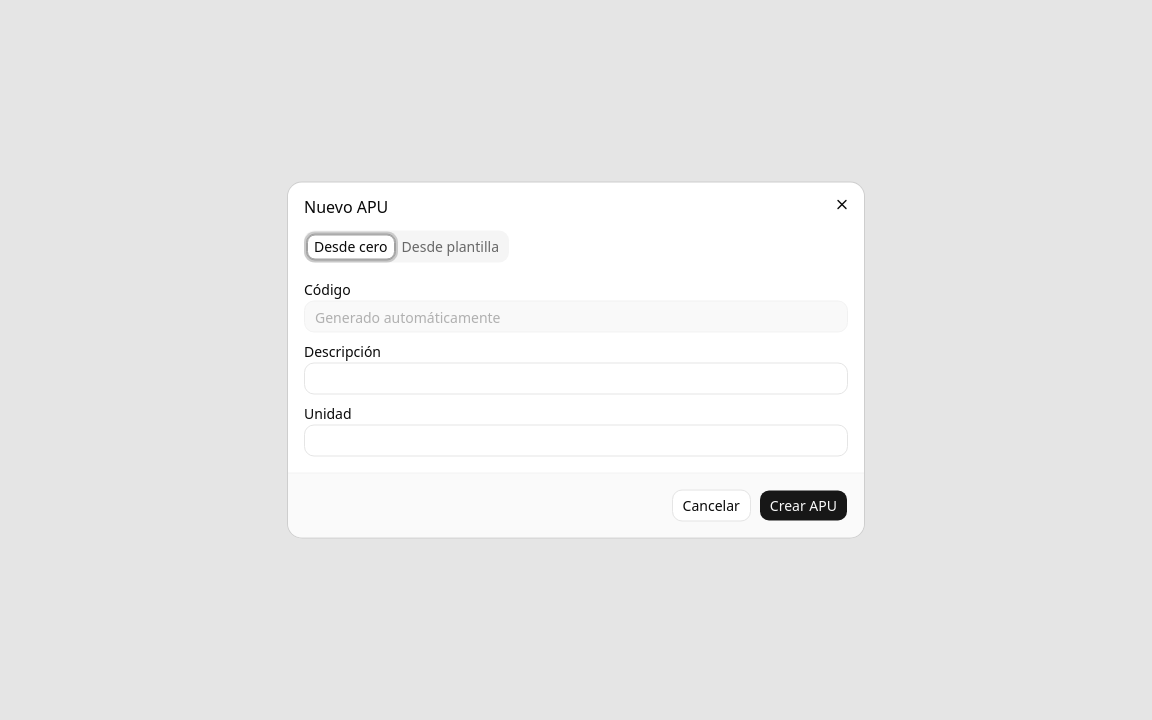
DialogoNuevoApu › fills descripcion and unidad from detalle when template selected
Click the tab "Desde plantilla" at [450, 246], box [395,234,506,259]
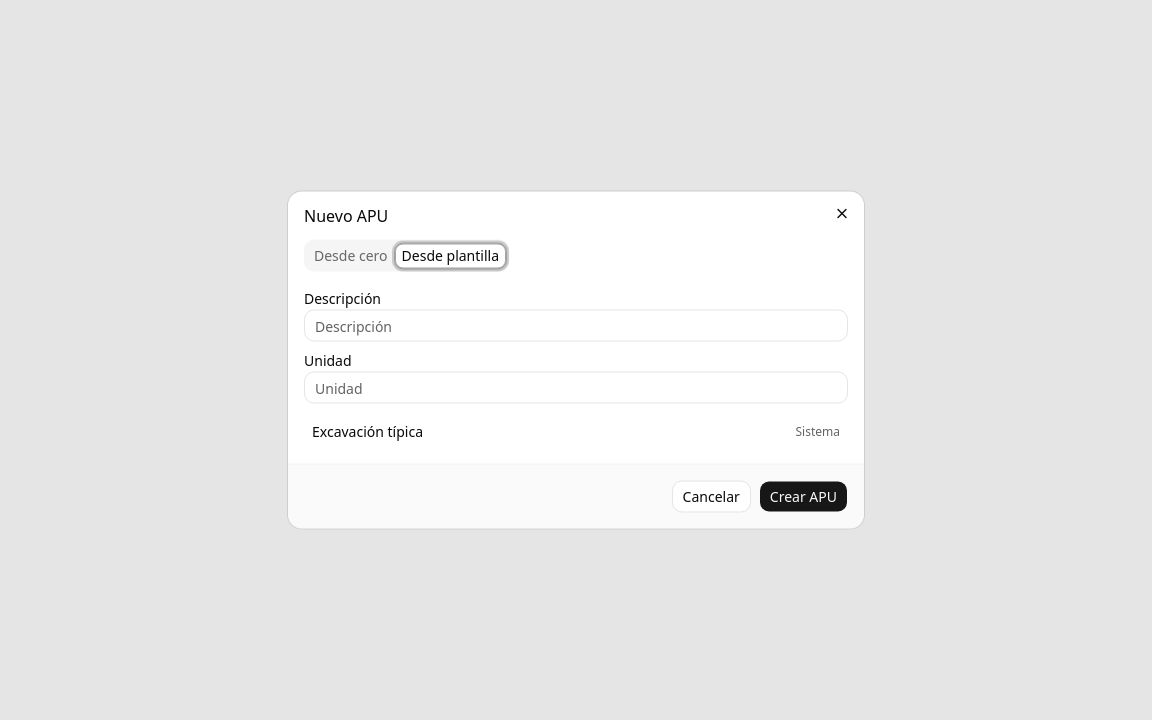
Click the text "Excavación típica" at [368, 432], box [312,422,423,442]
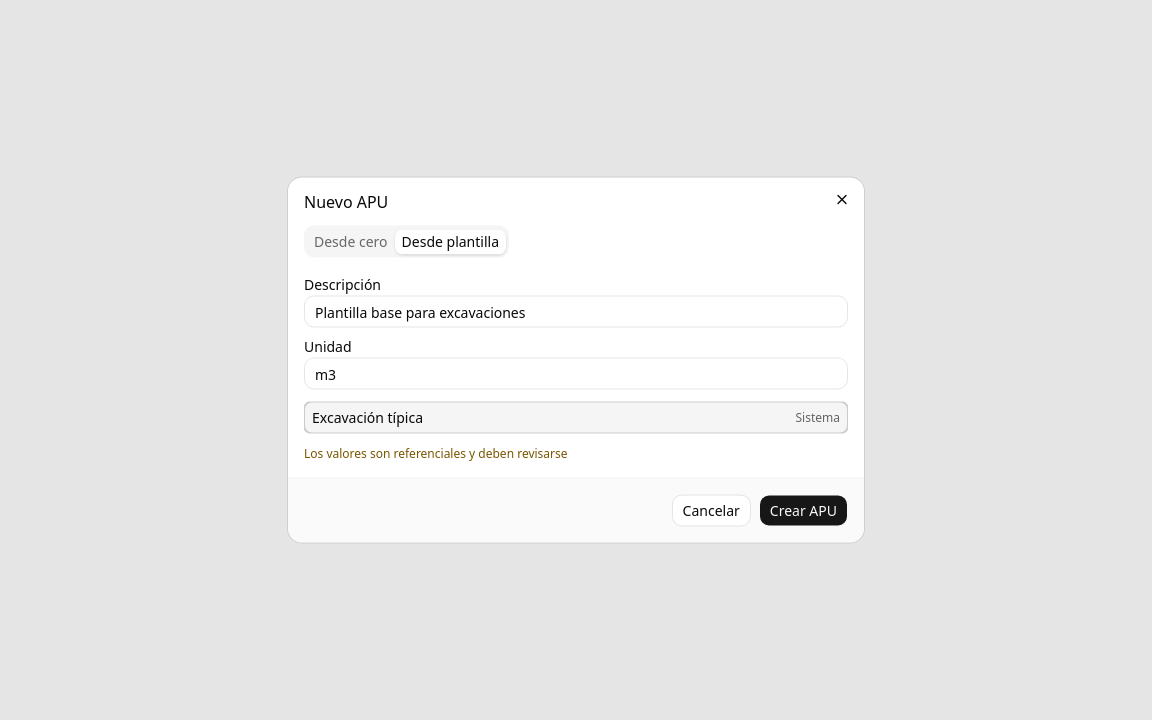
Result: the field showing "Plantilla base para excavaciones" below "Descripción" is shown at [304,296,848,328]
Result: the field showing "m3" below "Unidad" is shown at [304,358,848,390]
